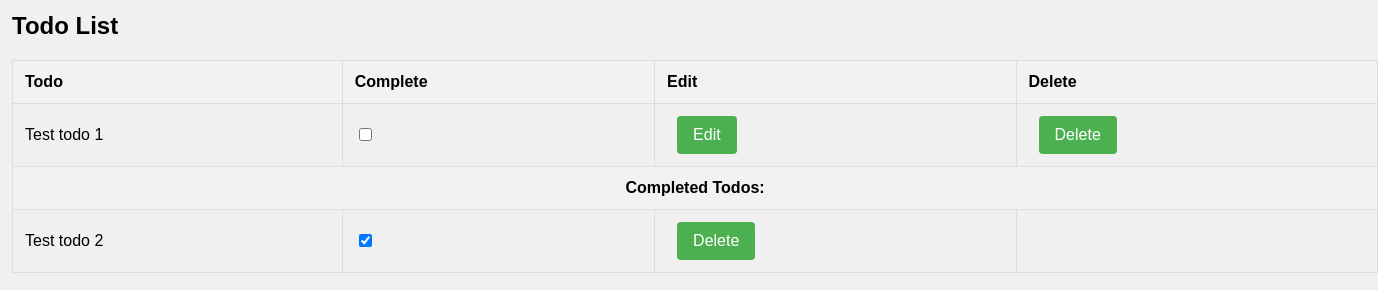
Table Component › toggles the completion status of a todo
Click the checkbox named "Toggle Test todo 1": (365, 134) [359, 128, 372, 141]
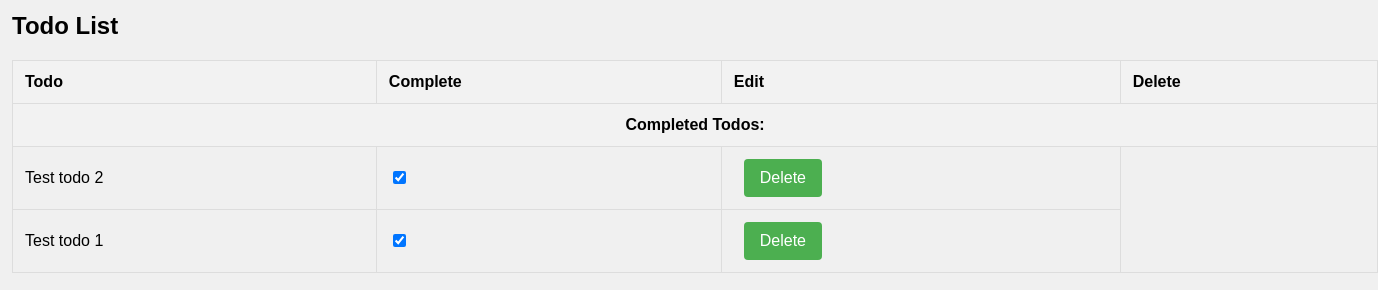
Expected: the checkbox named "Toggle Test todo 1" is checked, [393, 234, 406, 247]
